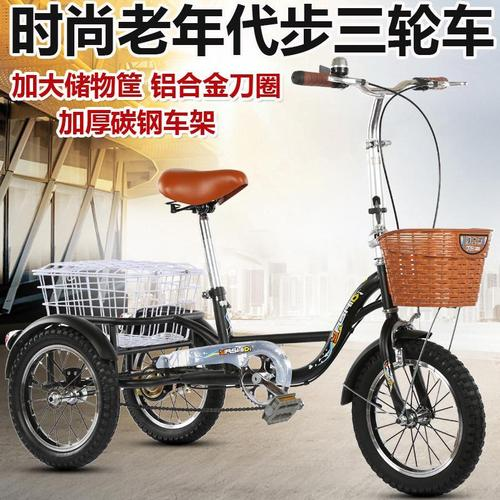empty: (6, 53, 496, 497)
